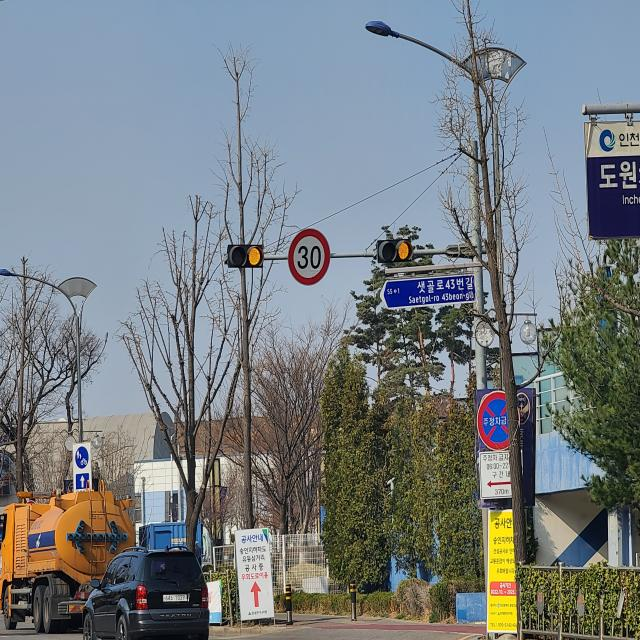Yellow Light: (246, 247, 262, 267), (397, 240, 410, 262)
